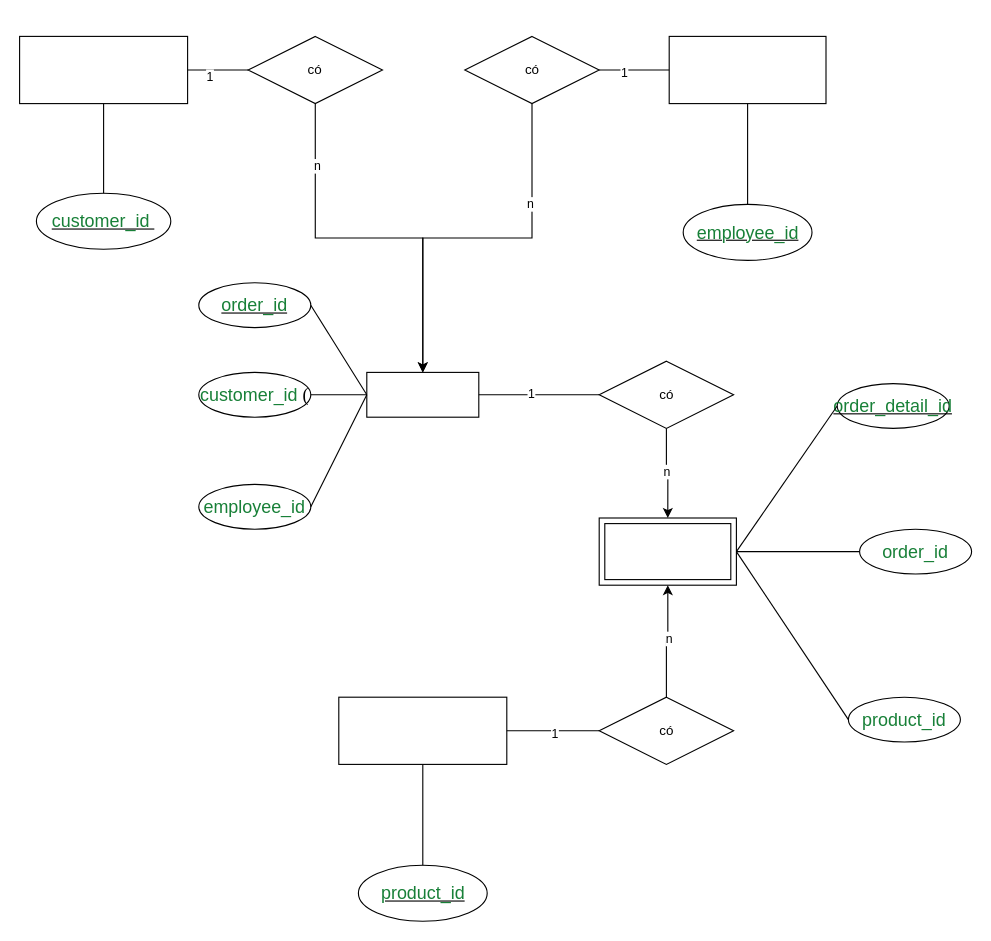
Some shapes in this 991 by 941 pixel diagram are drawn without their labels. Each missing label, with the box of its shape:
Customers: (18, 35, 188, 104)
Employees: (668, 35, 826, 104)
OrderDetails: (598, 517, 736, 585)
Orders: (366, 371, 479, 417)
Products: (338, 696, 507, 764)
